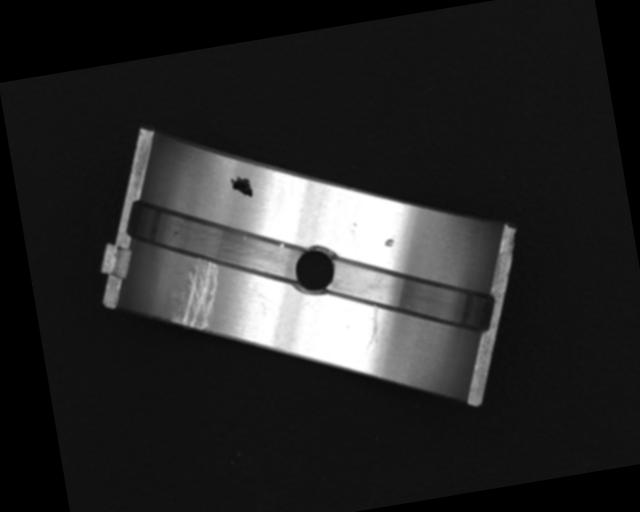blot: (228, 173, 255, 201)
bruise: (384, 237, 395, 247)
gap: (122, 175, 306, 302), (320, 239, 499, 353)
hole: (291, 244, 340, 297)
nick: (358, 305, 386, 353)
scratch: (164, 259, 227, 332)
